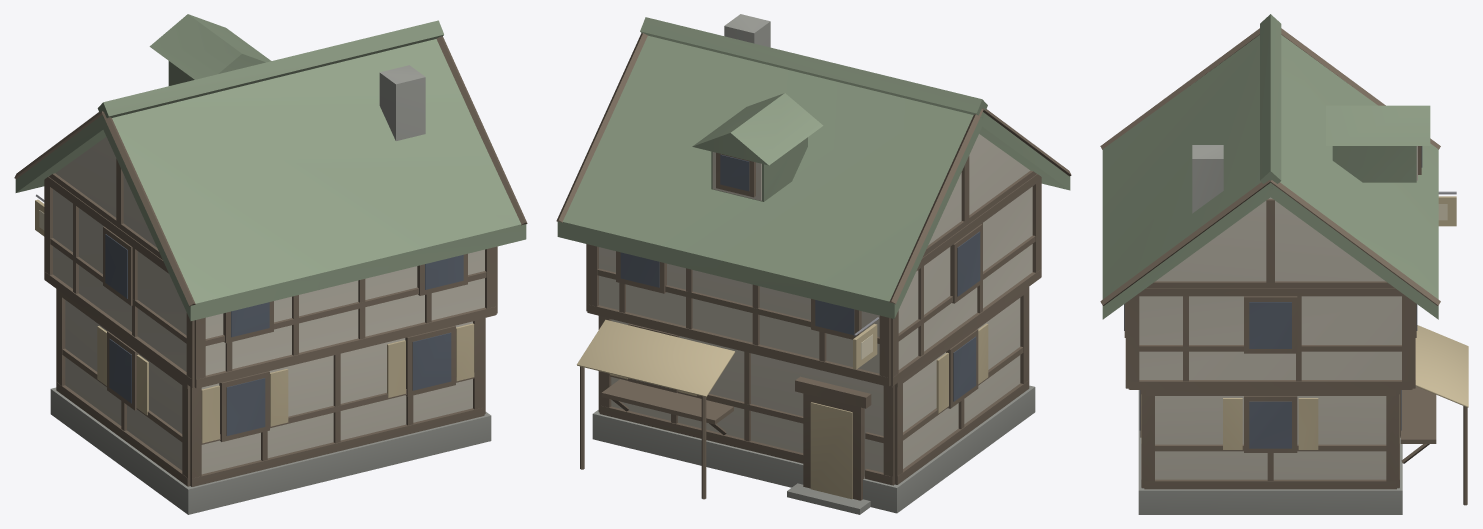
File: shop_green.gltf
3 views of the same model, side by side, from view 1: azimuth 30°, elevation 25°; view 2: azimuth 150°, elevation 25°; view 3: azimuth 270°, elevation 25° (orthographic). The views are drawn at different scales.
Visible parts, largest first — view 1: Body; view 2: Body; view 3: Body.
Part boxes in pixels (bbox=[...]): Body: bbox=[14, 14, 527, 514]; Body: bbox=[556, 14, 1071, 514]; Body: bbox=[1100, 14, 1468, 514].
Size of the model in its own units: 8.37 by 8.66 by 8.23.
